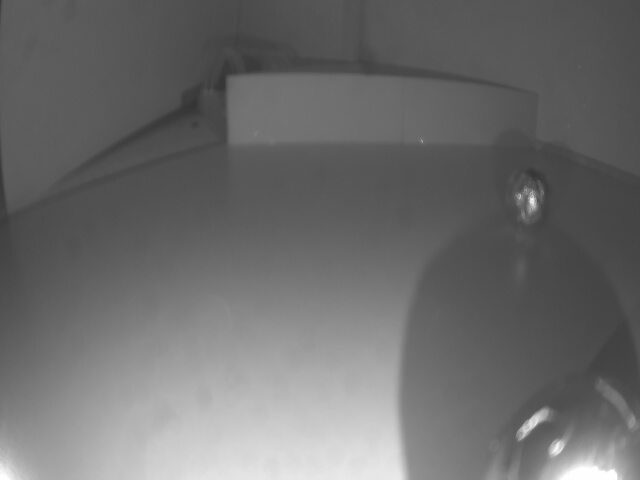Red: (229, 69, 543, 147)
